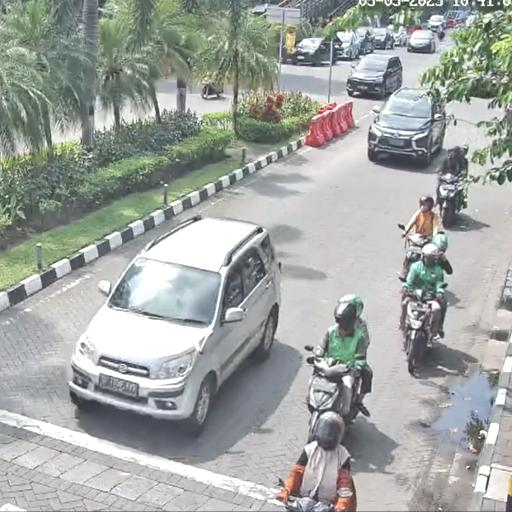mobil: (67, 218, 280, 426), (370, 88, 450, 166), (348, 52, 404, 100)
motor: (304, 344, 370, 446), (400, 288, 442, 378), (396, 220, 433, 278), (437, 168, 469, 230)
